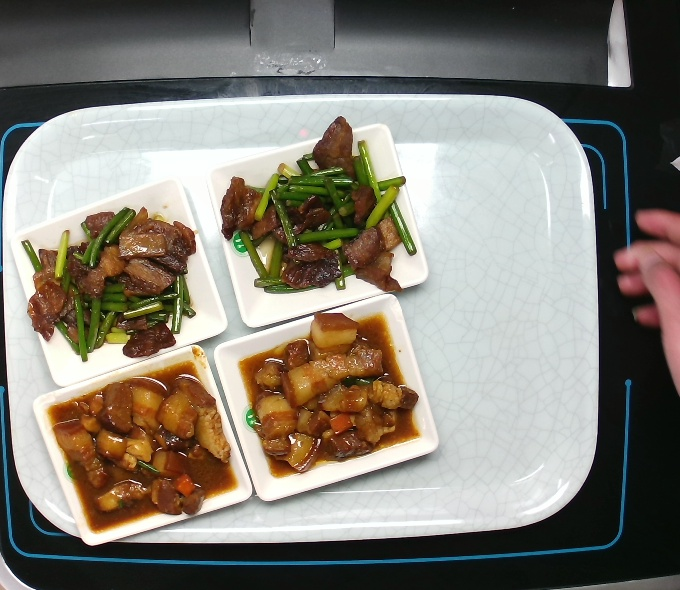wcq-HongShaoRou: (233, 310, 425, 480), (47, 360, 239, 530)
wcq-SuanMiaoChaoRou: (216, 121, 417, 297), (17, 209, 206, 363)
